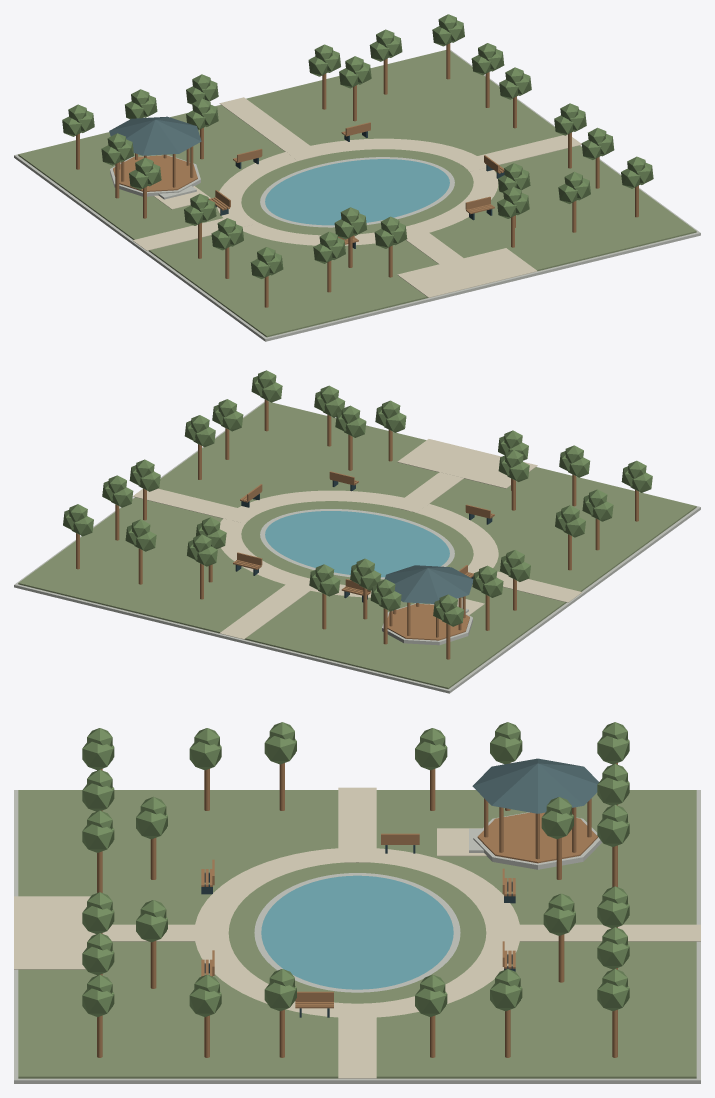
The model's file is park-large-8x8-v2.glb.
3 renders of one model, top to bottom at view 1: azimuth 30°, elevation 25°; view 2: azimuth 150°, elevation 25°; view 3: azimuth 270°, elevation 25°, orthographic. The views are drawn at different scales.
Visible parts, largest first — view 1: ContinuousLawn, ShallowPondSurface, LoopWalk, ContinuousSolidLotBase, FrontEntryPlaza, GazeboRoof, FrontRearEntranceWalk.001, GazeboDeck, SideEntranceWalk.001, SideEntranceWalk, PondStoneEdge, FrontRearEntranceWalk (+1 smaller); view 2: ContinuousLawn, ShallowPondSurface, LoopWalk, ContinuousSolidLotBase, FrontEntryPlaza, GazeboRoof, FrontRearEntranceWalk.001, GazeboDeck, SideEntranceWalk.001, FrontRearEntranceWalk, SideEntranceWalk, PondStoneEdge (+1 smaller); view 3: ContinuousLawn, ShallowPondSurface, LoopWalk, ContinuousSolidLotBase, FrontEntryPlaza, GazeboRoof, GazeboDeck, FrontRearEntranceWalk.001, SideEntranceWalk.001, SideEntranceWalk, PondStoneEdge, FrontRearEntranceWalk (+26 smaller).
Boxes of the visible parts, <box> form: ContinuousLawn: <box>18,50,696,337</box>; ShallowPondSurface: <box>265,159,449,225</box>; LoopWalk: <box>217,138,498,245</box>; ContinuousSolidLotBase: <box>14,50,700,341</box>; FrontEntryPlaza: <box>397,248,537,297</box>; GazeboRoof: <box>109,116,201,155</box>; FrontRearEntranceWalk.001: <box>219,97,322,160</box>; GazeboDeck: <box>113,155,197,191</box>; SideEntranceWalk.001: <box>457,134,581,171</box>; SideEntranceWalk: <box>133,213,257,250</box>; PondStoneEdge: <box>260,157,454,227</box>; FrontRearEntranceWalk: <box>406,224,494,286</box>; ContinuousLawn: <box>18,402,696,689</box>; ShallowPondSurface: <box>265,511,449,577</box>; LoopWalk: <box>219,490,498,597</box>; ContinuousSolidLotBase: <box>14,401,700,693</box>; FrontEntryPlaza: <box>397,439,537,488</box>; GazeboRoof: <box>385,565,473,603</box>; FrontRearEntranceWalk.001: <box>219,575,313,639</box>; GazeboDeck: <box>387,604,469,640</box>; SideEntranceWalk.001: <box>132,488,257,523</box>; FrontRearEntranceWalk: <box>392,472,463,512</box>; SideEntranceWalk: <box>468,565,582,602</box>; PondStoneEdge: <box>260,509,454,579</box>; ContinuousLawn: <box>18,790,696,1078</box>; ShallowPondSurface: <box>261,875,453,989</box>; LoopWalk: <box>195,848,519,1017</box>; ContinuousSolidLotBase: <box>14,790,700,1083</box>; FrontEntryPlaza: <box>14,896,95,969</box>; GazeboRoof: <box>472,758,598,813</box>; GazeboDeck: <box>477,812,597,863</box>; FrontRearEntranceWalk.001: <box>486,924,700,941</box>; SideEntranceWalk.001: <box>338,1003,376,1078</box>; SideEntranceWalk: <box>338,787,376,862</box>; PondStoneEdge: <box>254,873,460,992</box>; FrontRearEntranceWalk: <box>102,924,228,941</box>.
Bounding box in the file's own units: 32 × 4.8 × 32.
